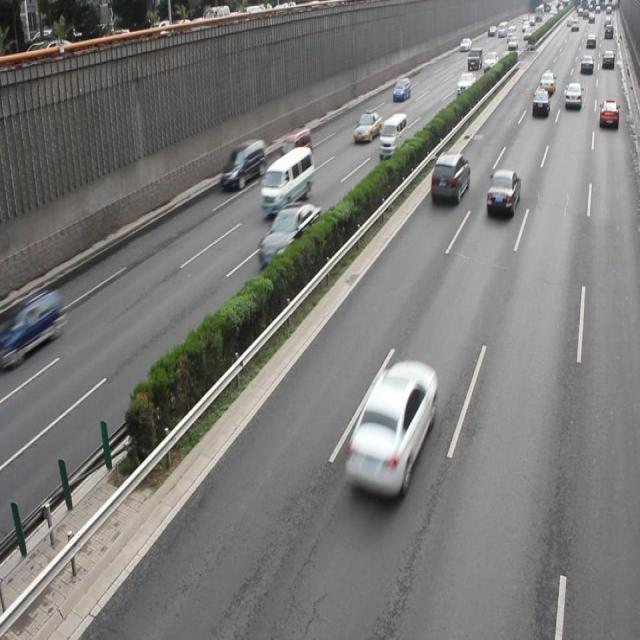car: (342, 359, 433, 500), (258, 202, 321, 269), (429, 152, 469, 204), (485, 168, 520, 220), (352, 110, 380, 142), (598, 98, 618, 130)
truck: (261, 146, 313, 214), (220, 138, 265, 190), (379, 113, 405, 160), (280, 127, 313, 163)
